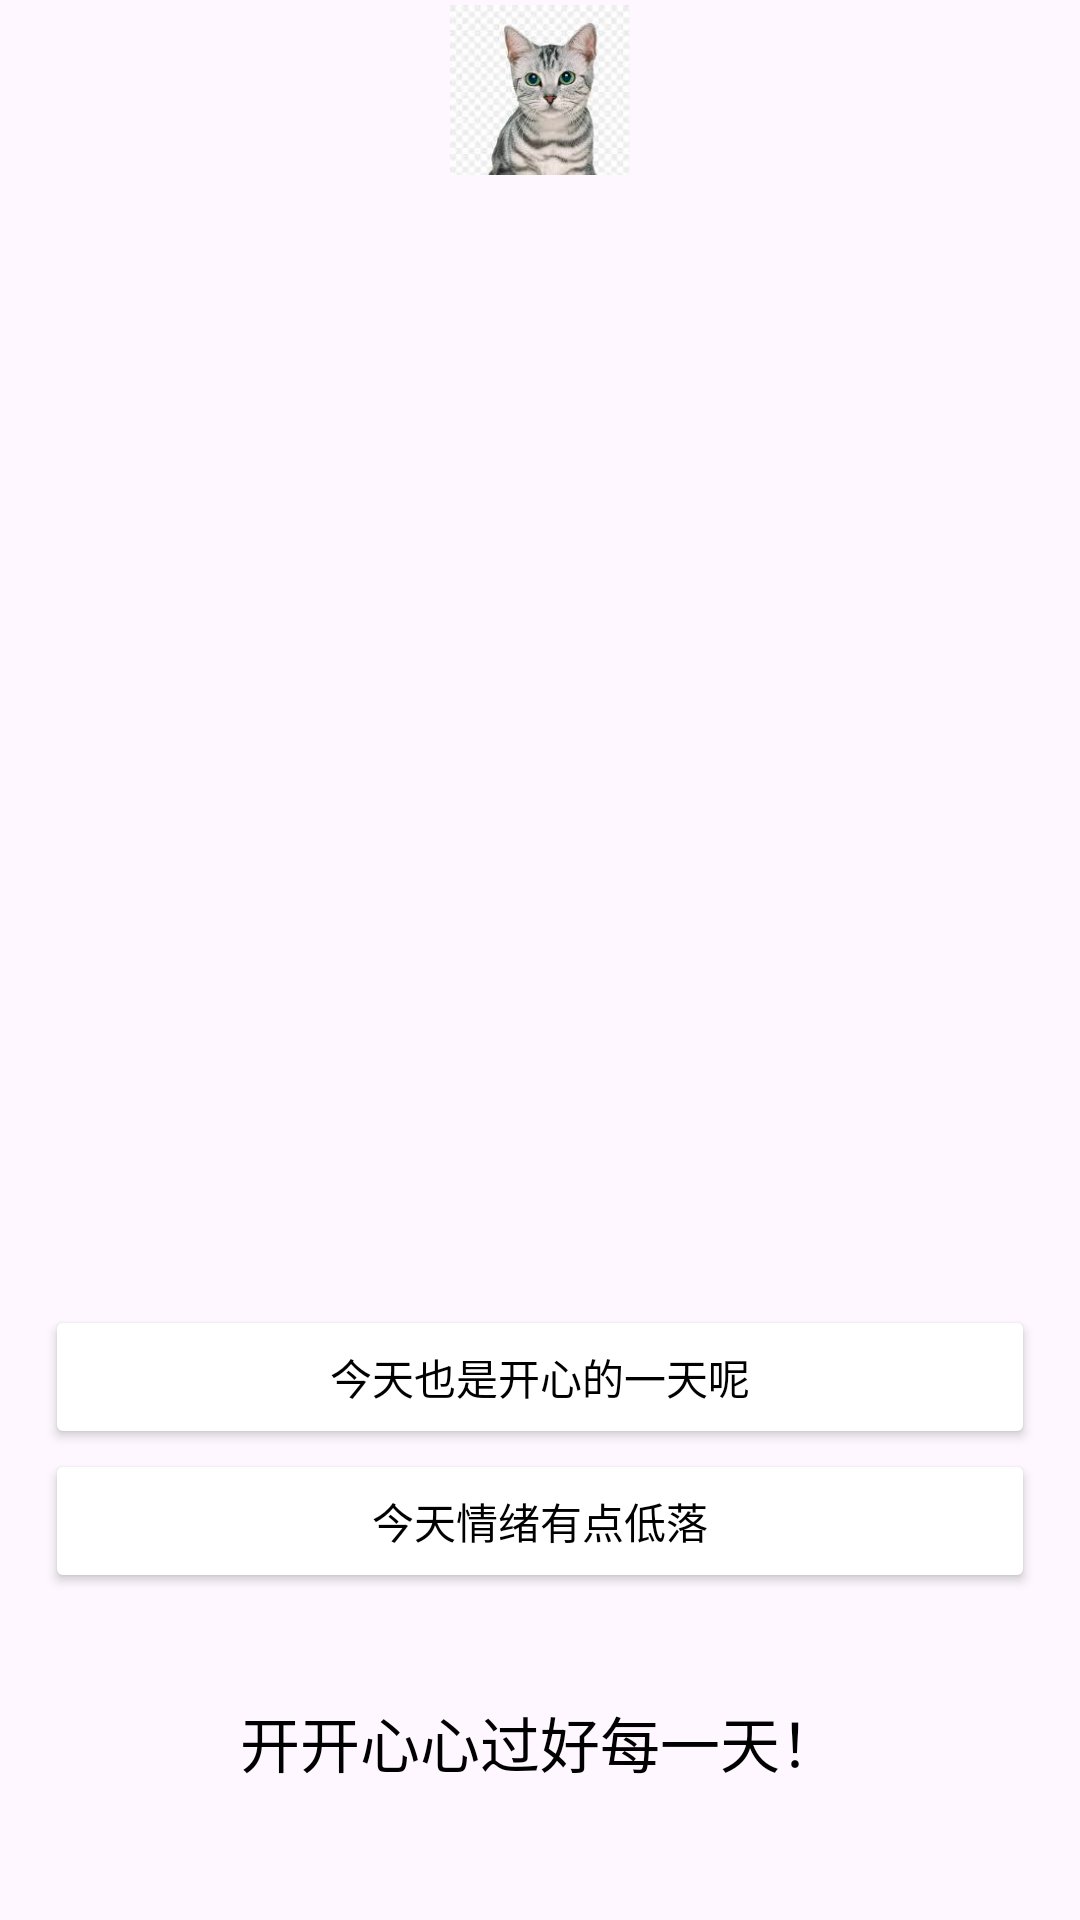

Icon bounding boxes for this 1080x1920 phone screenshot, format bbox(x1, y1, x2, y2):
cat: bbox(450, 5, 630, 175)
